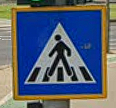trecere_pietoni: (10, 4, 107, 100)
